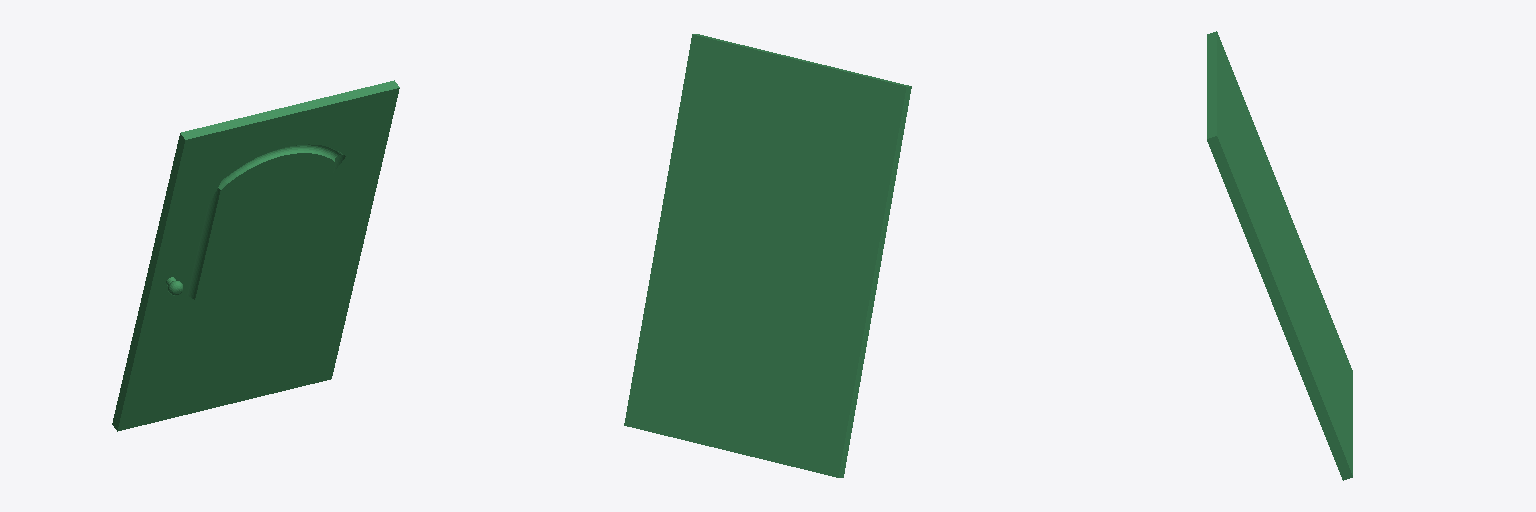
Rendered from door.obj.
3 views of the same model, side by side, from view 1: azimuth 30°, elevation 25°; view 2: azimuth 150°, elevation 25°; view 3: azimuth 270°, elevation 25° (orthographic).
Parts seen in each view (by area): view 1: Layer0_001; view 2: Layer0_001; view 3: Layer0_001.
Boxes of the visible parts, <box> form: Layer0_001: <box>112,80,399,431</box>; Layer0_001: <box>624,34,911,477</box>; Layer0_001: <box>1207,31,1352,480</box>.
Bounding box in the file's own units: 17.32 × 26.63 × 10.27.